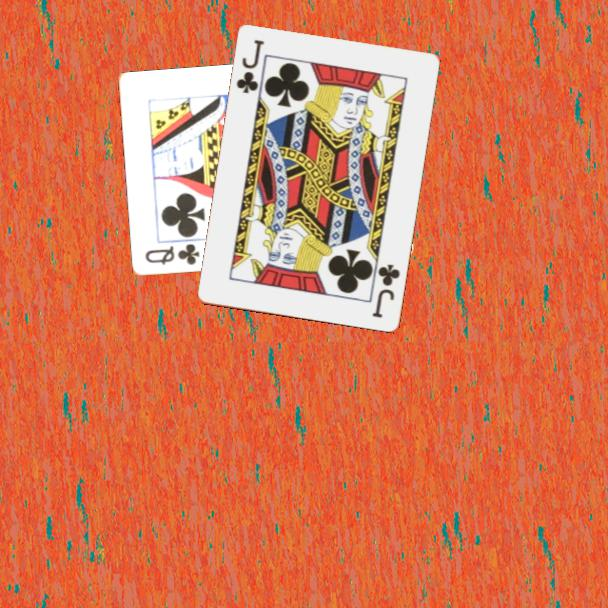c11: (369, 261, 403, 321), (233, 37, 267, 97)
c12: (141, 240, 202, 268)
